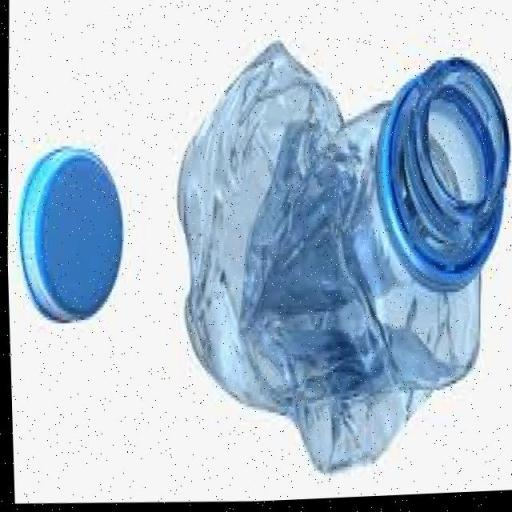plastic: (158, 24, 512, 493)
